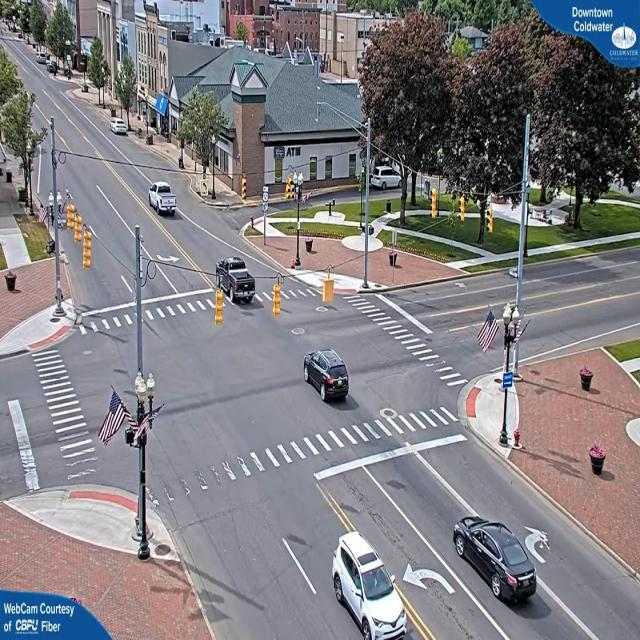car: (330, 533, 405, 640), (452, 519, 540, 610), (301, 350, 349, 404), (217, 260, 257, 304), (149, 182, 179, 215), (111, 119, 129, 136)
